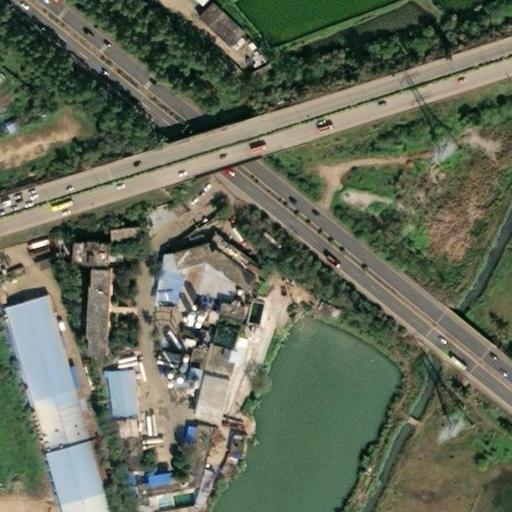building: (37, 436, 97, 505), (74, 408, 121, 489), (144, 249, 182, 309), (198, 243, 249, 286), (82, 252, 104, 340), (186, 369, 222, 419), (96, 369, 132, 418), (177, 424, 205, 480), (196, 339, 228, 374), (184, 468, 206, 510), (173, 261, 196, 296), (64, 233, 104, 253), (192, 270, 226, 292), (219, 430, 239, 459), (0, 111, 22, 133), (212, 290, 237, 309), (104, 224, 125, 243), (58, 361, 72, 387), (30, 256, 52, 272), (141, 470, 163, 483), (201, 292, 214, 310), (176, 426, 187, 447), (214, 342, 223, 353), (119, 247, 126, 260), (16, 249, 28, 256), (8, 253, 18, 261)
